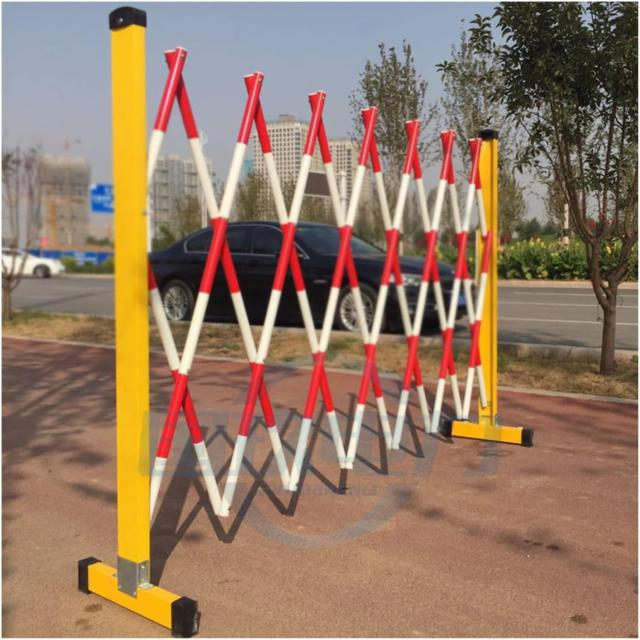cone: (78, 9, 536, 635)
